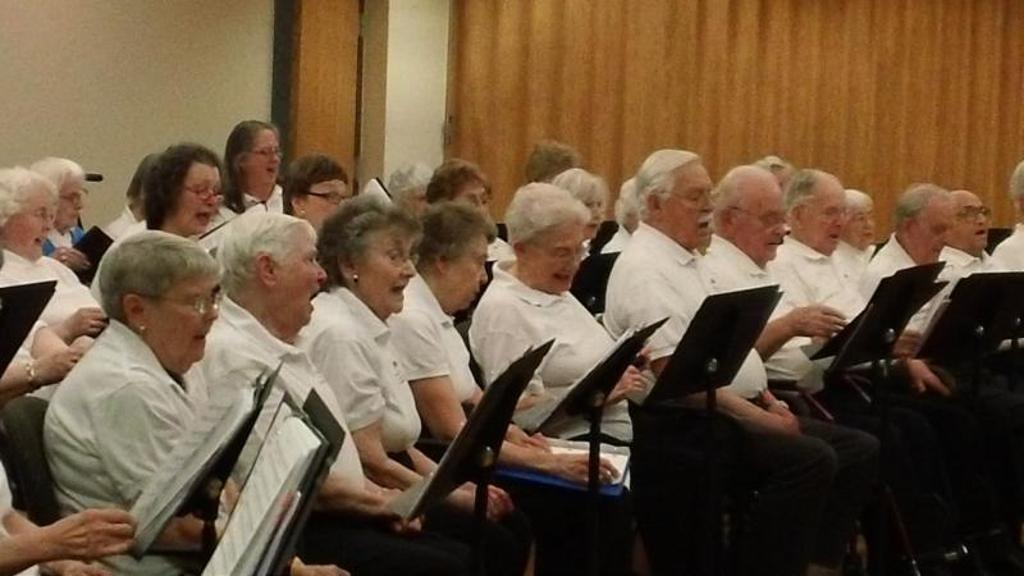face: (147, 277, 218, 359), (359, 235, 416, 313), (276, 240, 328, 323), (736, 181, 785, 261), (665, 166, 716, 241), (529, 231, 584, 291), (450, 238, 489, 310), (181, 165, 221, 232), (806, 186, 847, 251), (14, 193, 55, 256), (915, 199, 953, 264), (945, 192, 987, 249), (307, 182, 348, 230), (244, 132, 280, 184), (454, 186, 490, 227), (578, 191, 604, 239), (56, 183, 85, 226), (851, 208, 875, 245)
